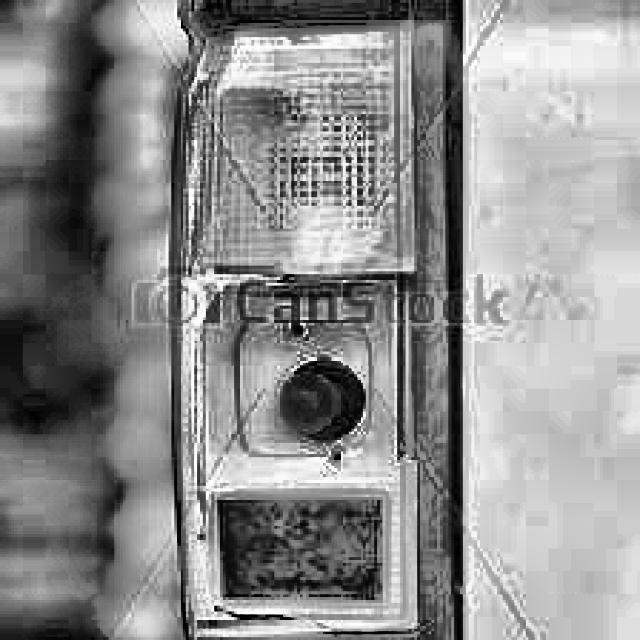tail_lamp: (179, 10, 414, 630)
